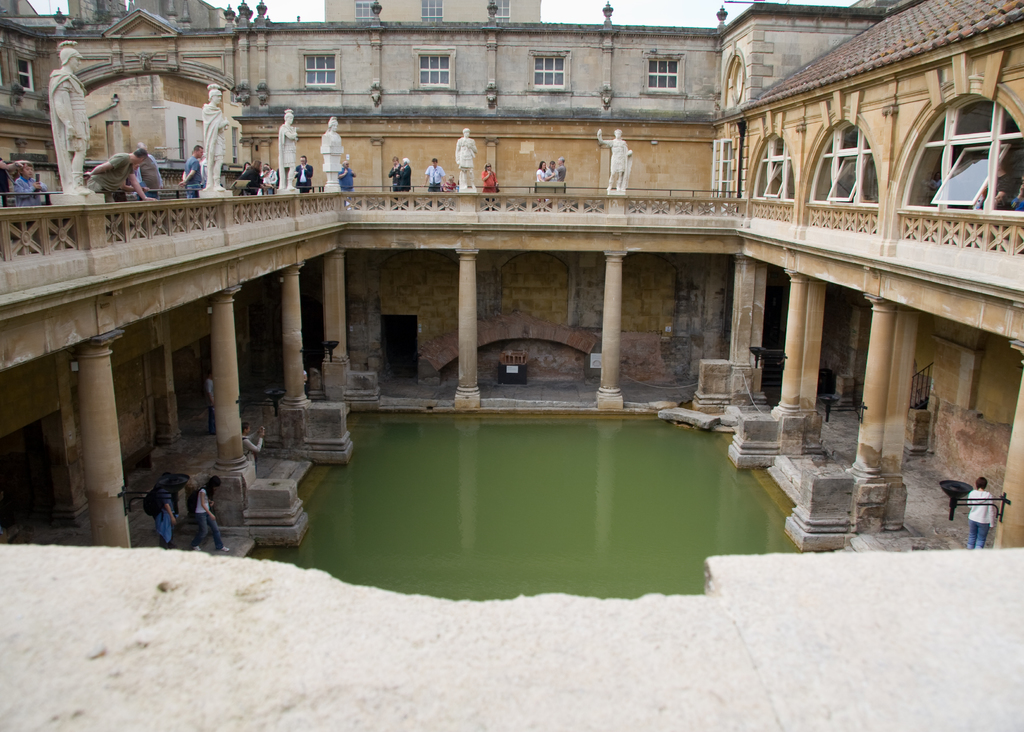person: (85, 147, 157, 203)
